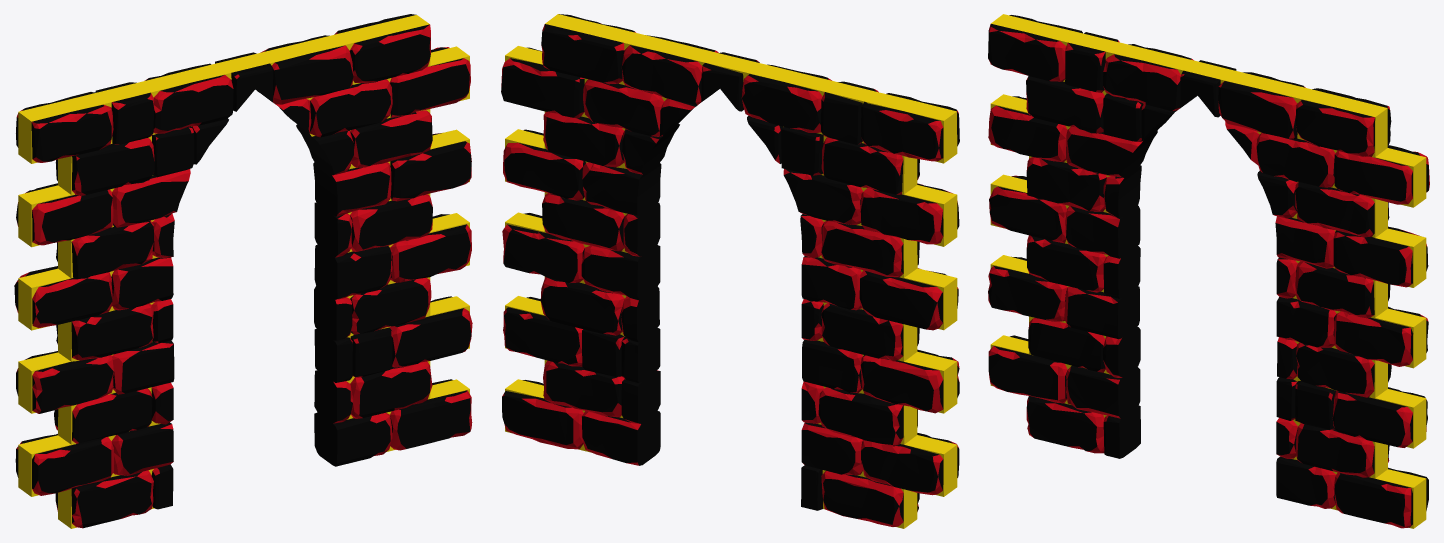
Rendered from SM_Wall_StatueEnclosure.fbx.
3 renders of one model, left to right at view 1: azimuth 30°, elevation 25°; view 2: azimuth 150°, elevation 25°; view 3: azimuth 330°, elevation 25°, orthographic. The views are drawn at different scales.
Parts seen in each view (by area): view 1: SM_Wall_StatueEnclosure; view 2: SM_Wall_StatueEnclosure; view 3: SM_Wall_StatueEnclosure.
Part boxes in pixels (x1,y1,x2,y2): SM_Wall_StatueEnclosure: (14,14,472,528); SM_Wall_StatueEnclosure: (501,14,959,528); SM_Wall_StatueEnclosure: (988,14,1429,528).
Bounding box in the file's own units: 441 × 44.5 × 401.
